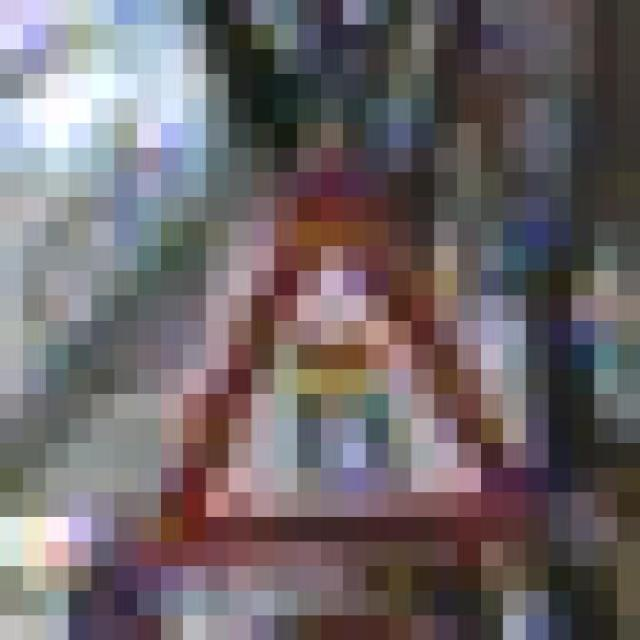-Road narrows on right: (123, 168, 559, 562)
